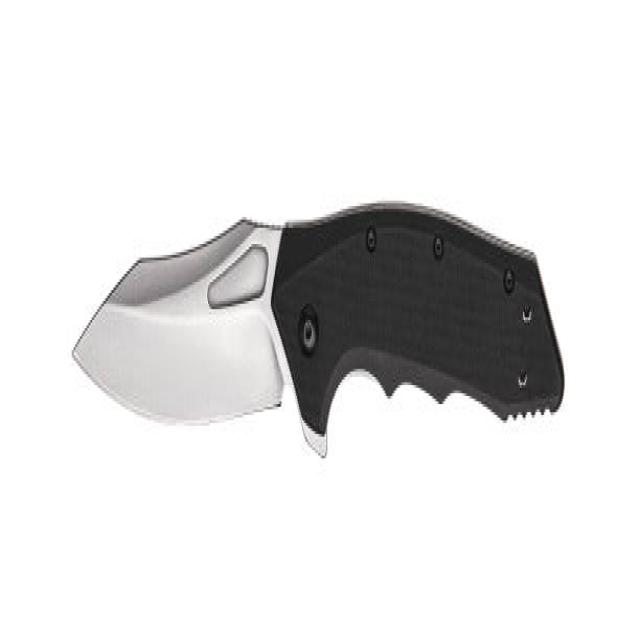knife: (70, 195, 573, 466)
